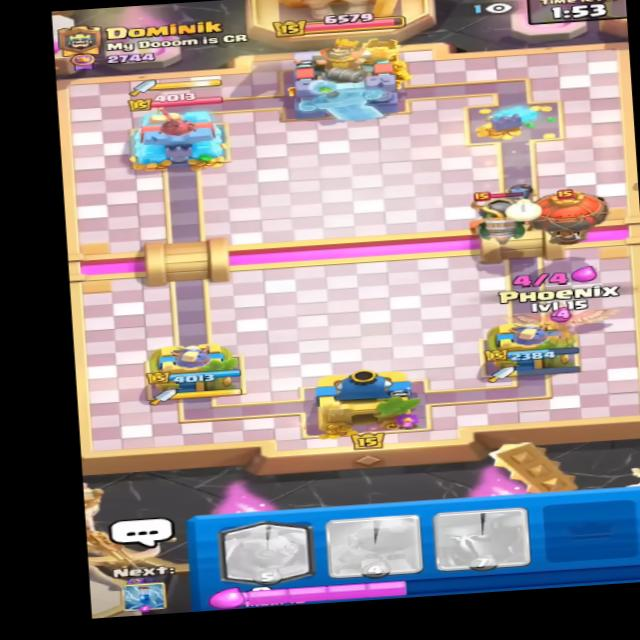balloon: (526, 187, 616, 248)
inferno-dragon: (453, 183, 541, 251)
